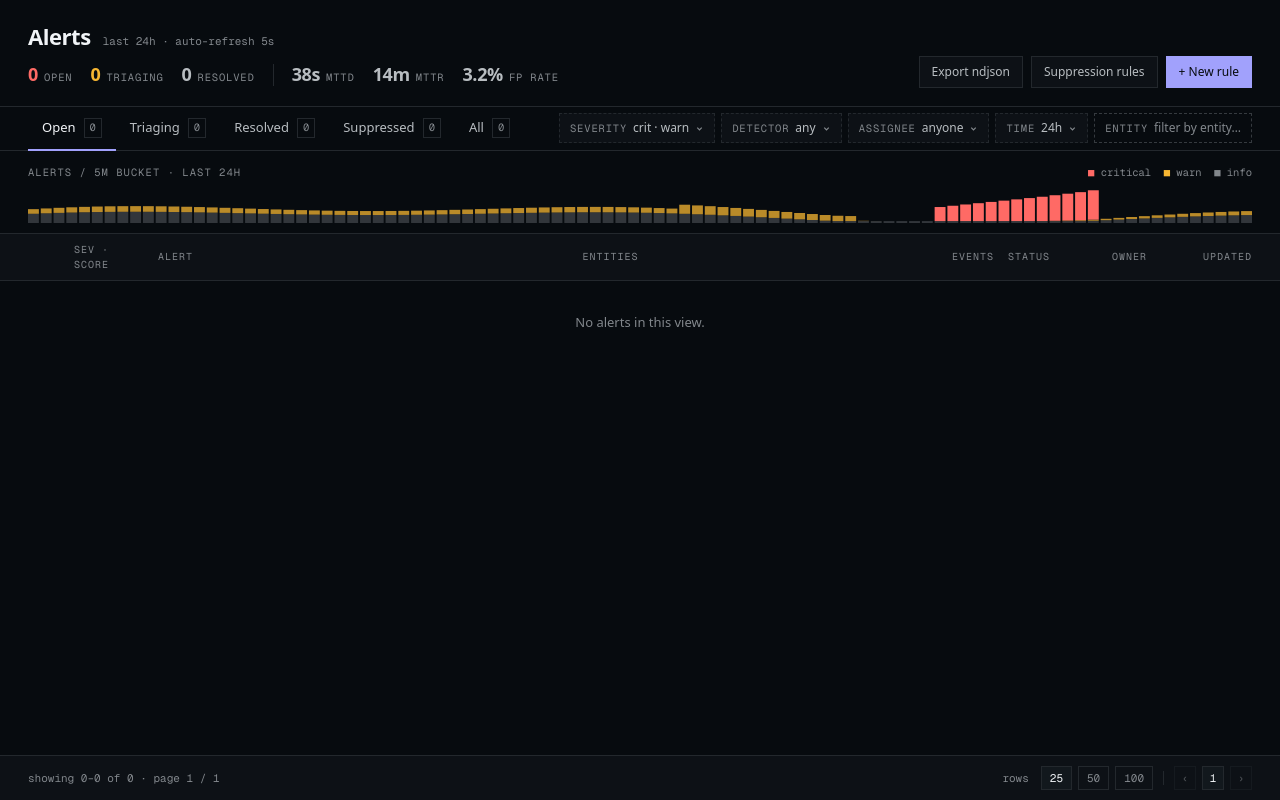
Test case: AlertFeed integration › handles alert_batch arrivals
Click the tab "All 0" at {"x": 490, "y": 129}, box [455,107,524,151]
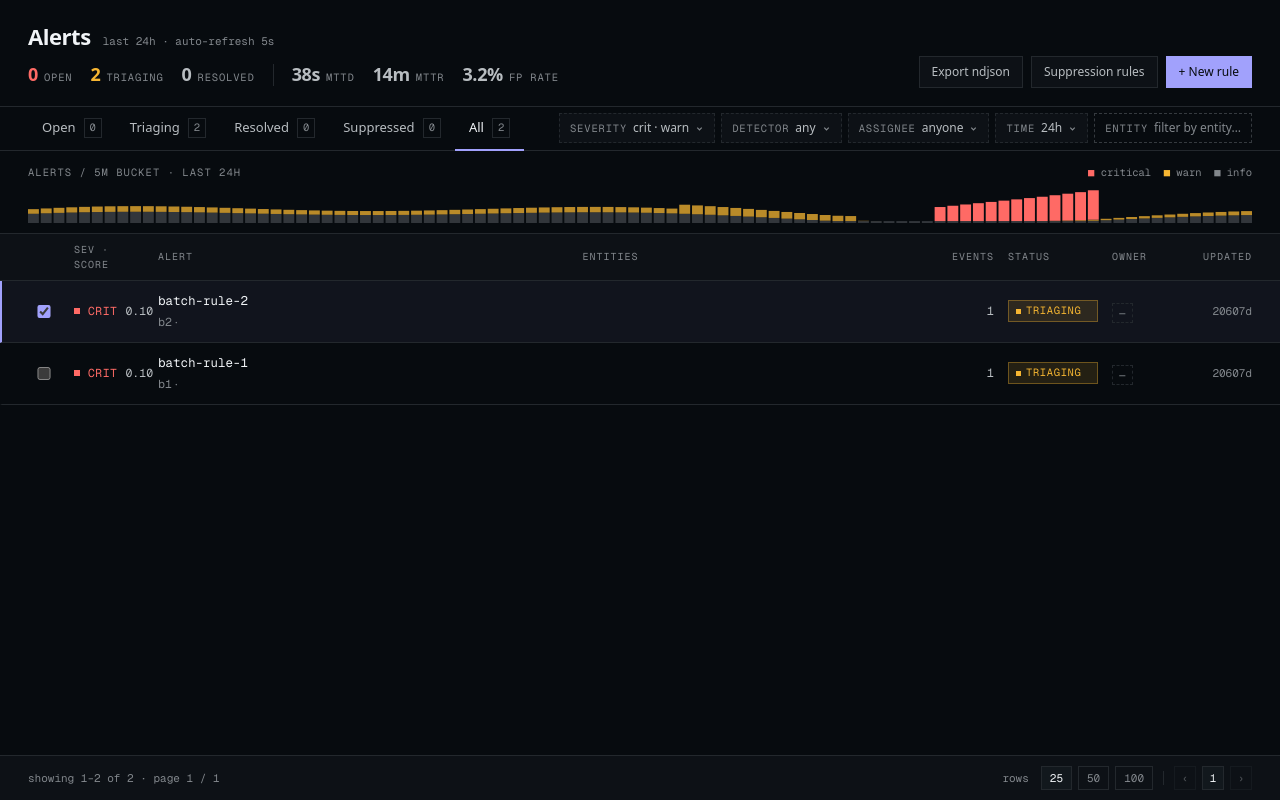
expect the text "batch-rule-1" is shown: met, box [158,354,248,372]
expect the text "batch-rule-2" is shown: met, box [158,292,248,310]
